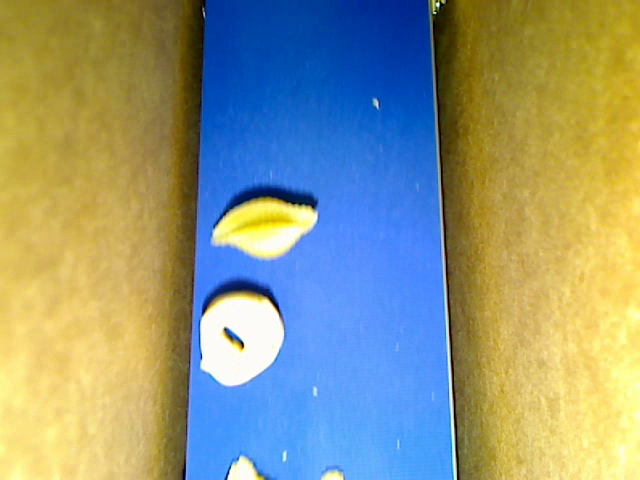shell: (211, 196, 318, 262)
tortellini: (200, 292, 285, 387)
